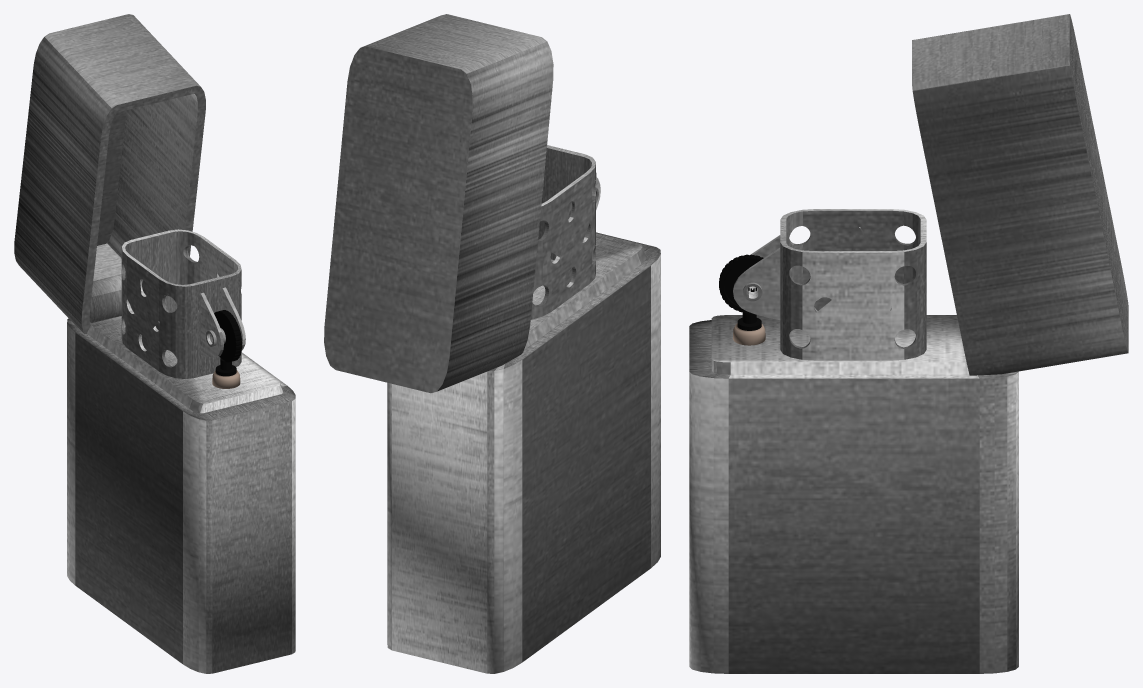
File: lighter.fbx
3 renders of one model, left to right at view 1: azimuth 30°, elevation 25°; view 2: azimuth 150°, elevation 25°; view 3: azimuth 270°, elevation 25°, orthographic. The views are drawn at different scales.
Parts seen in each view (by area): view 1: Lighter_Body, Lighter_Head; view 2: Lighter_Body, Lighter_Head; view 3: Lighter_Body, Lighter_Head.
Boxes of the visible parts, x1,y1,x2,y2 form: Lighter_Body: [67, 229, 295, 673]; Lighter_Head: [14, 14, 205, 334]; Lighter_Body: [387, 145, 660, 673]; Lighter_Head: [324, 14, 553, 393]; Lighter_Body: [689, 209, 1018, 673]; Lighter_Head: [912, 14, 1128, 375].
Size of the model in its own units: 98.94 by 471 by 309.
